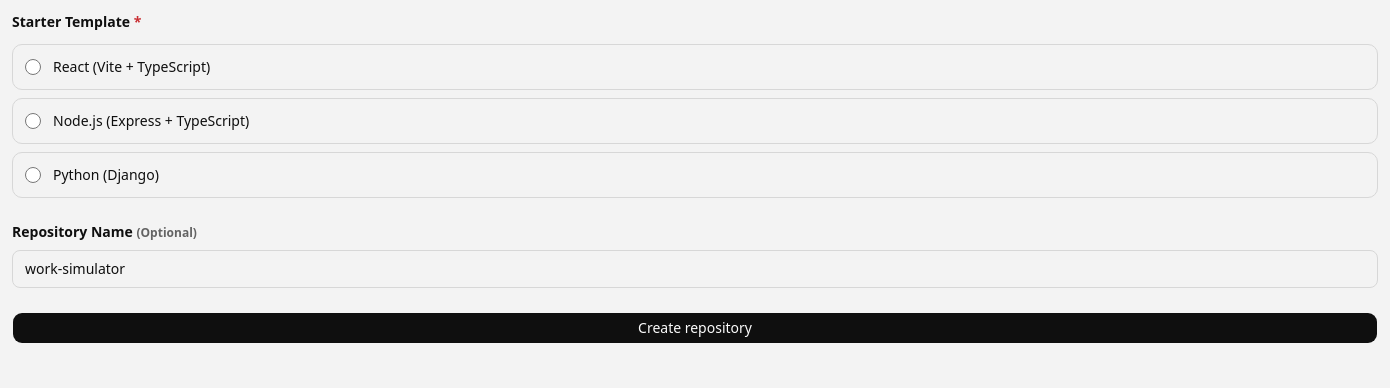
Test: RepoCreateForm › shows validation error when repository name contains invalid characters
Click the radio button labelled "React (Vite + TypeScript)".
click(33, 67)  # box [25,59,41,75]
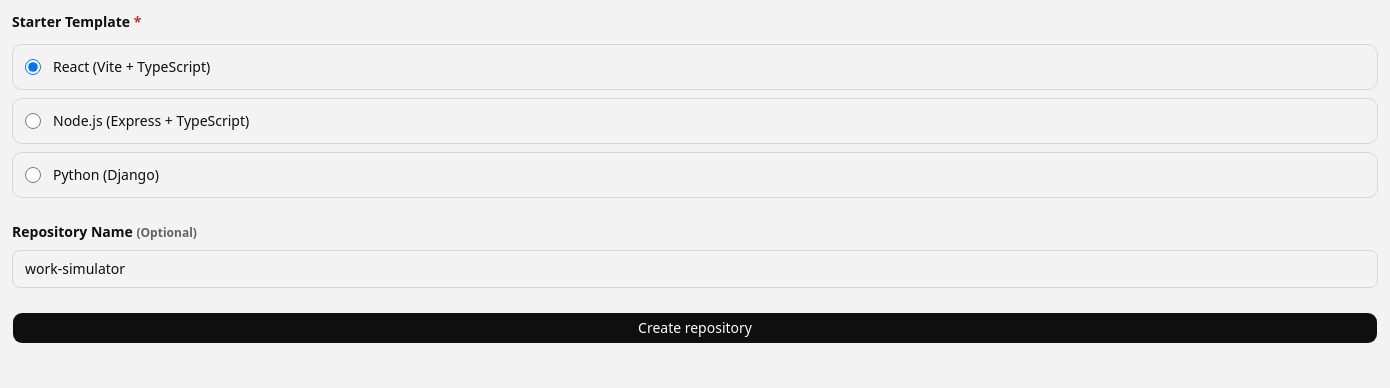
Replace the text in the field labelled "Repository Name (Optional)" with "invalid repo name!" at (695, 269), box [12,250,1378,288]
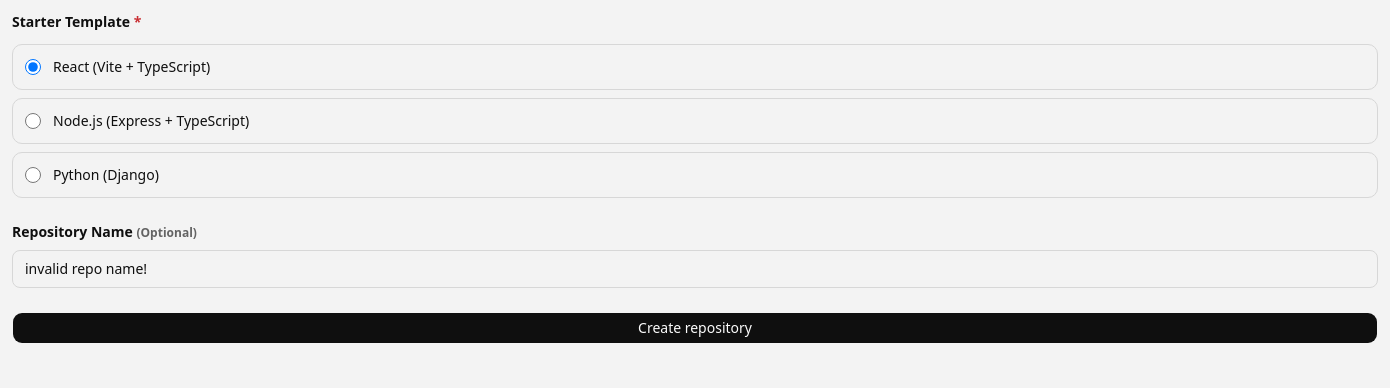
Click the button "Create repository".
click(695, 328)  # box [12,312,1378,344]
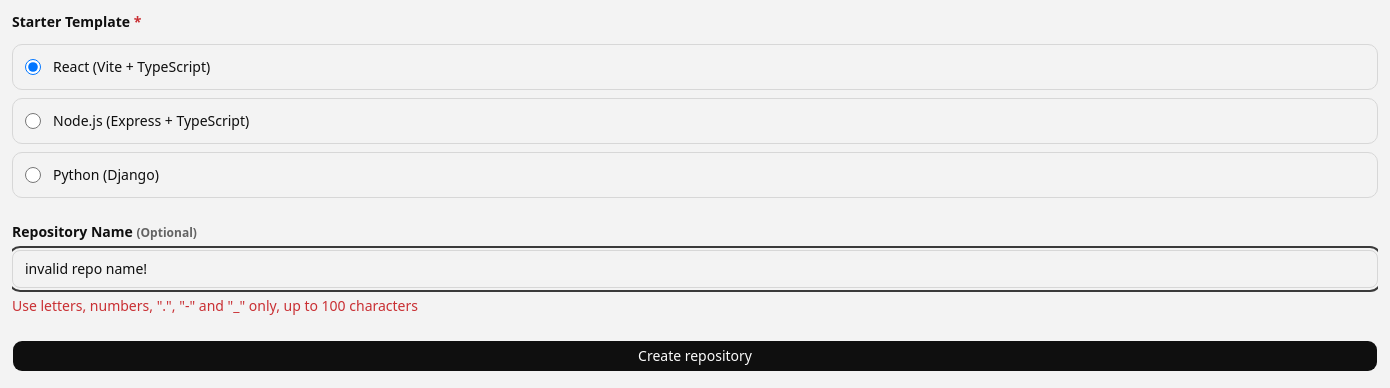
Expected: the text "Use letters, numbers, \".\", \"-\" and \"_\" only, up to 100 characters" is shown, [12,296,418,315]
